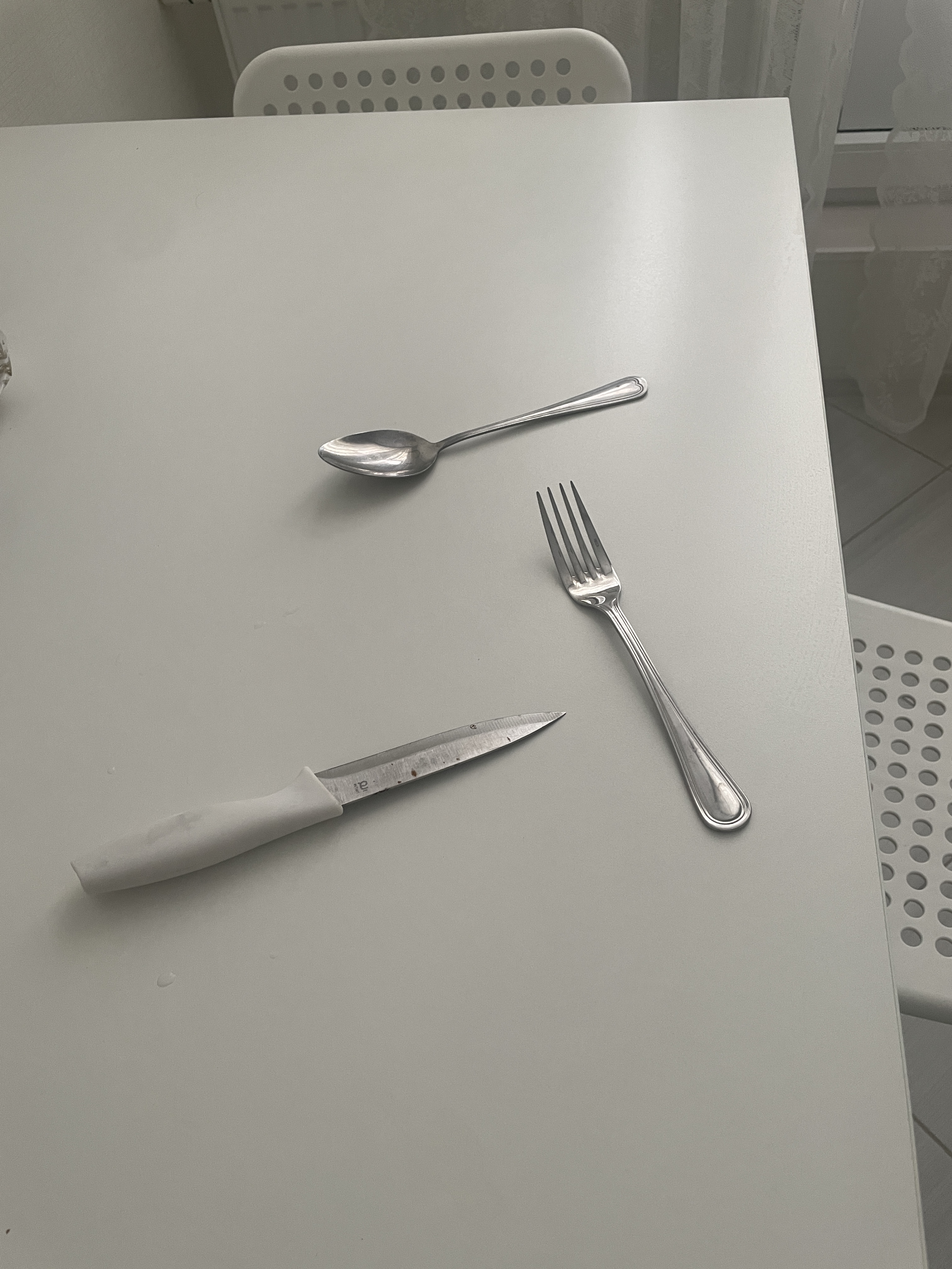knife: (72, 711, 565, 894)
spoon: (319, 376, 648, 477)
